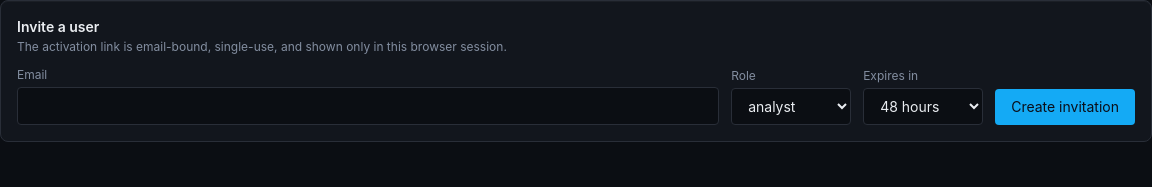
InviteUserCard › renders the API error without exposing a link
Type "existing@example.com" into the field labelled "Email" at [368, 106], box [17,87,719,125]
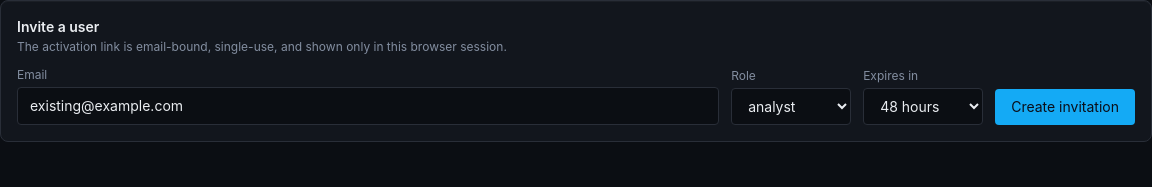
Click the button "Create invitation" at [1065, 107], box [995,89,1135,125]
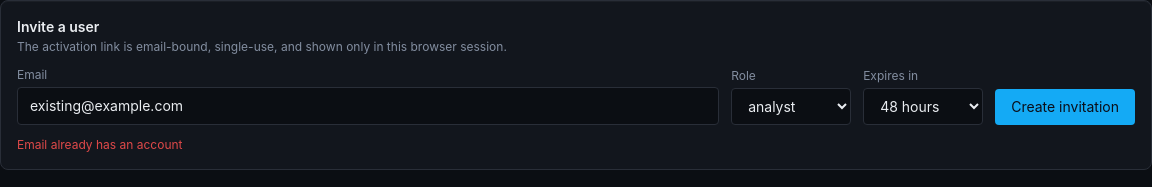
Now the message reads "Email already has an account", box [17,137,182,152]
